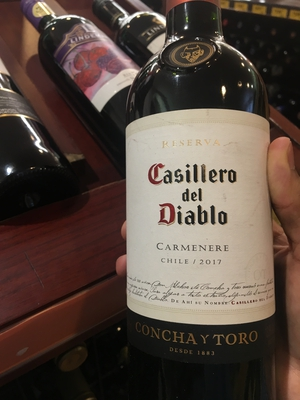casillero del diablo carmenere: (116, 7, 288, 400)
